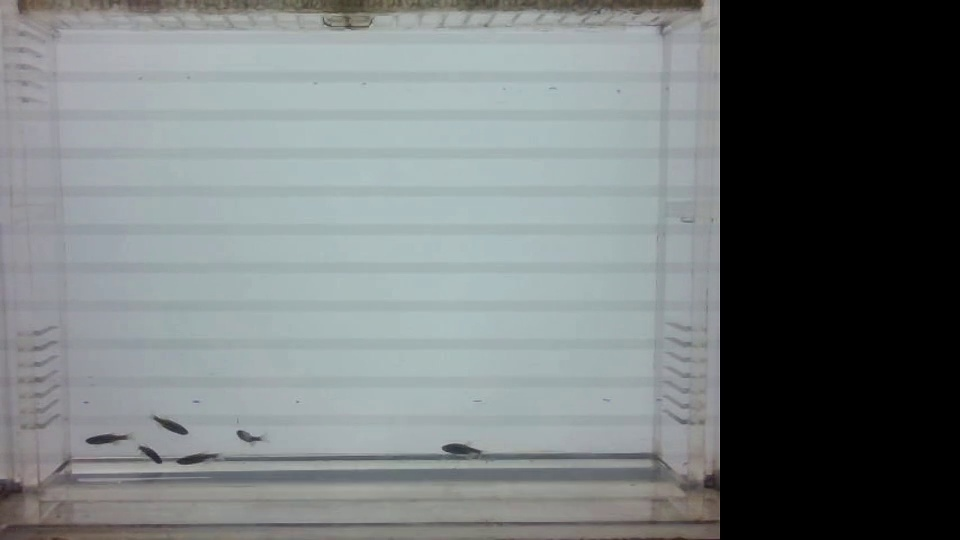fish: (146, 412, 192, 438), (80, 428, 136, 448), (436, 440, 488, 460), (130, 440, 164, 468), (172, 452, 229, 468), (232, 424, 268, 448)
